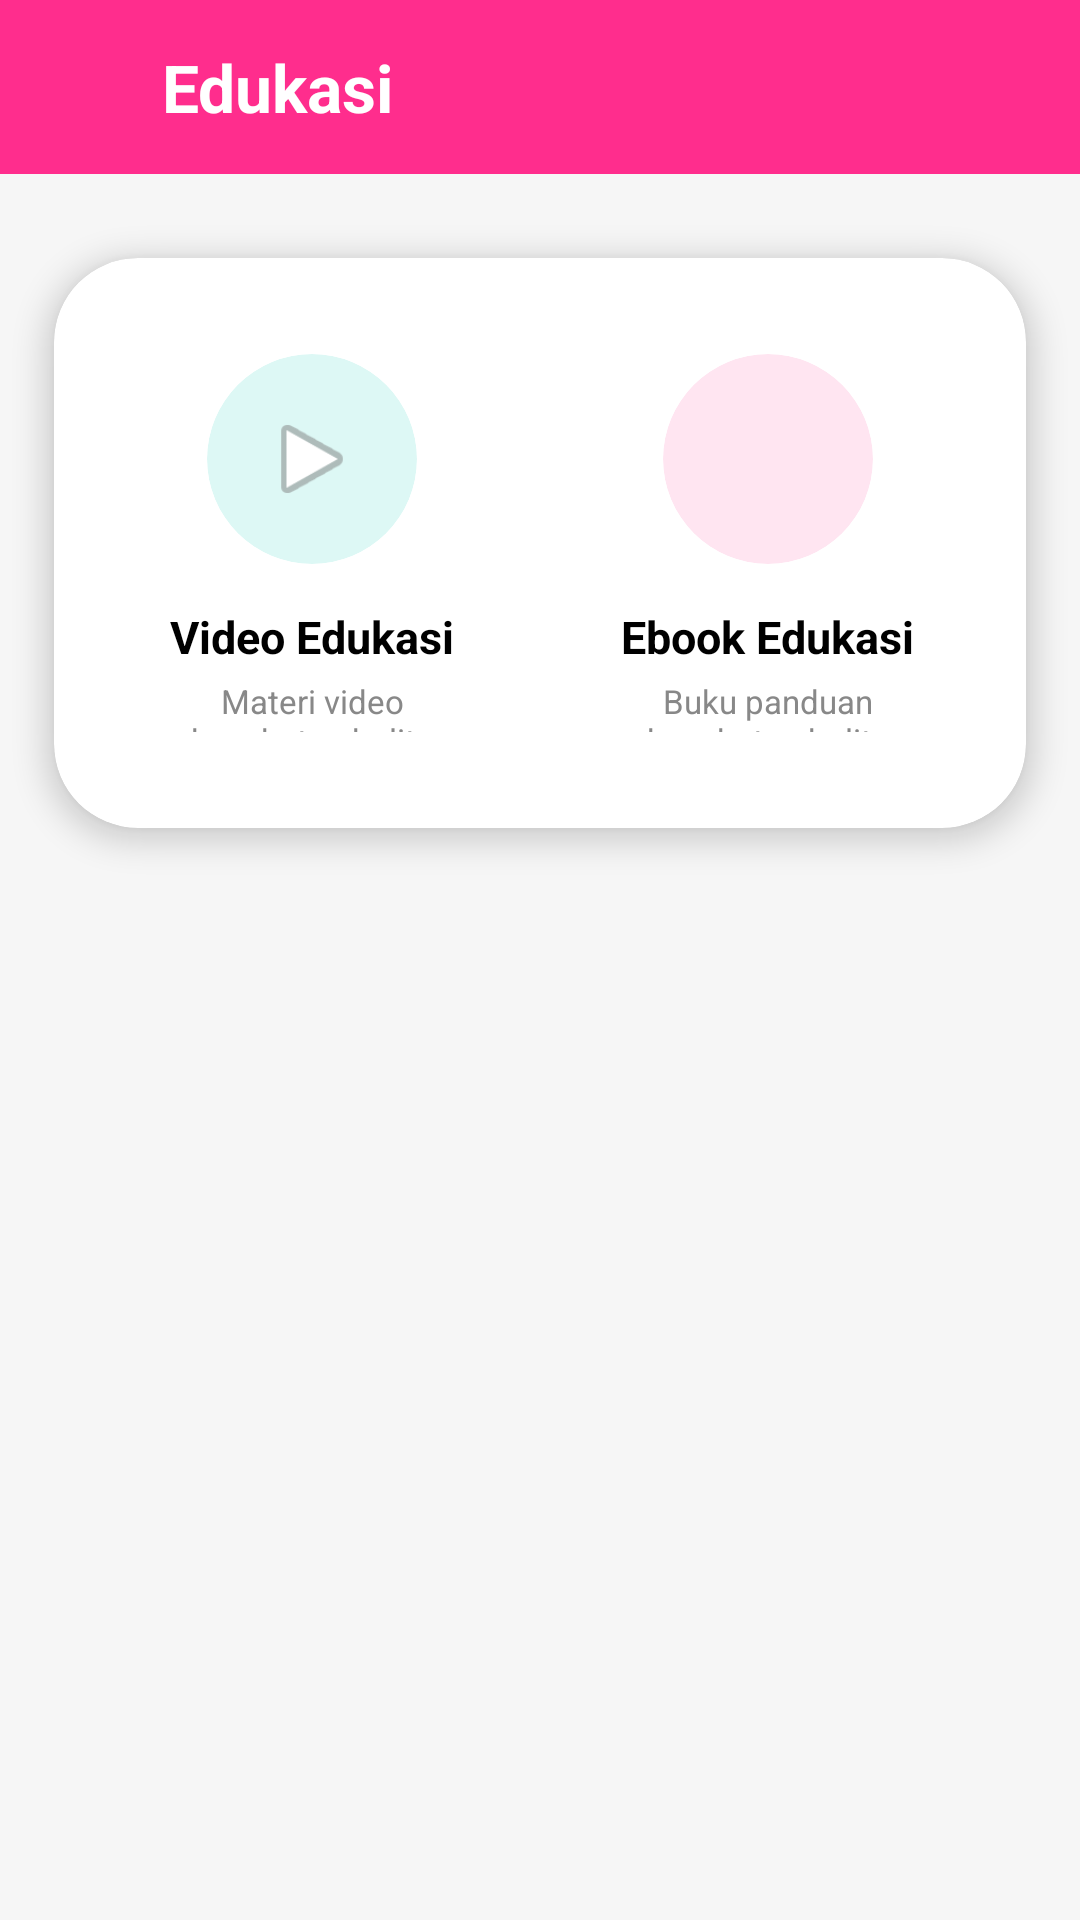

Locate icon controls on the screen. Image size 1080px×1920px, boxes as (x1, y1, x2, y2).
play: (207, 354, 417, 564)
